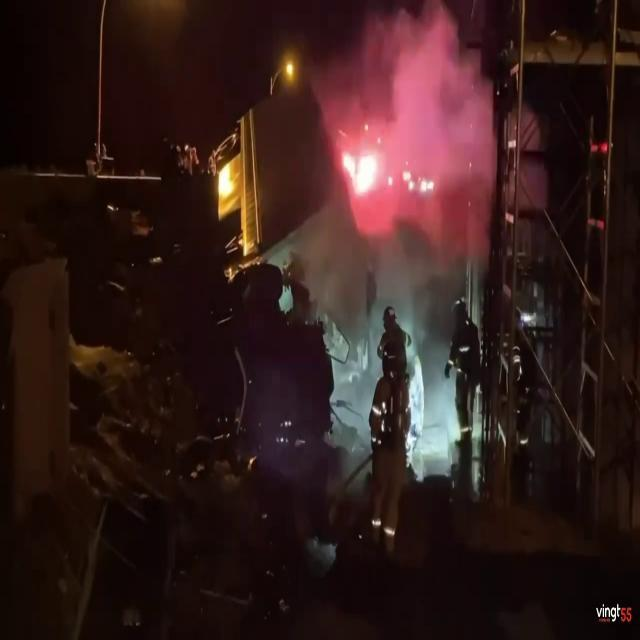Smoke: (294, 0, 498, 304)
